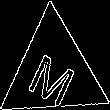M_NE: (25, 38, 82, 104)
